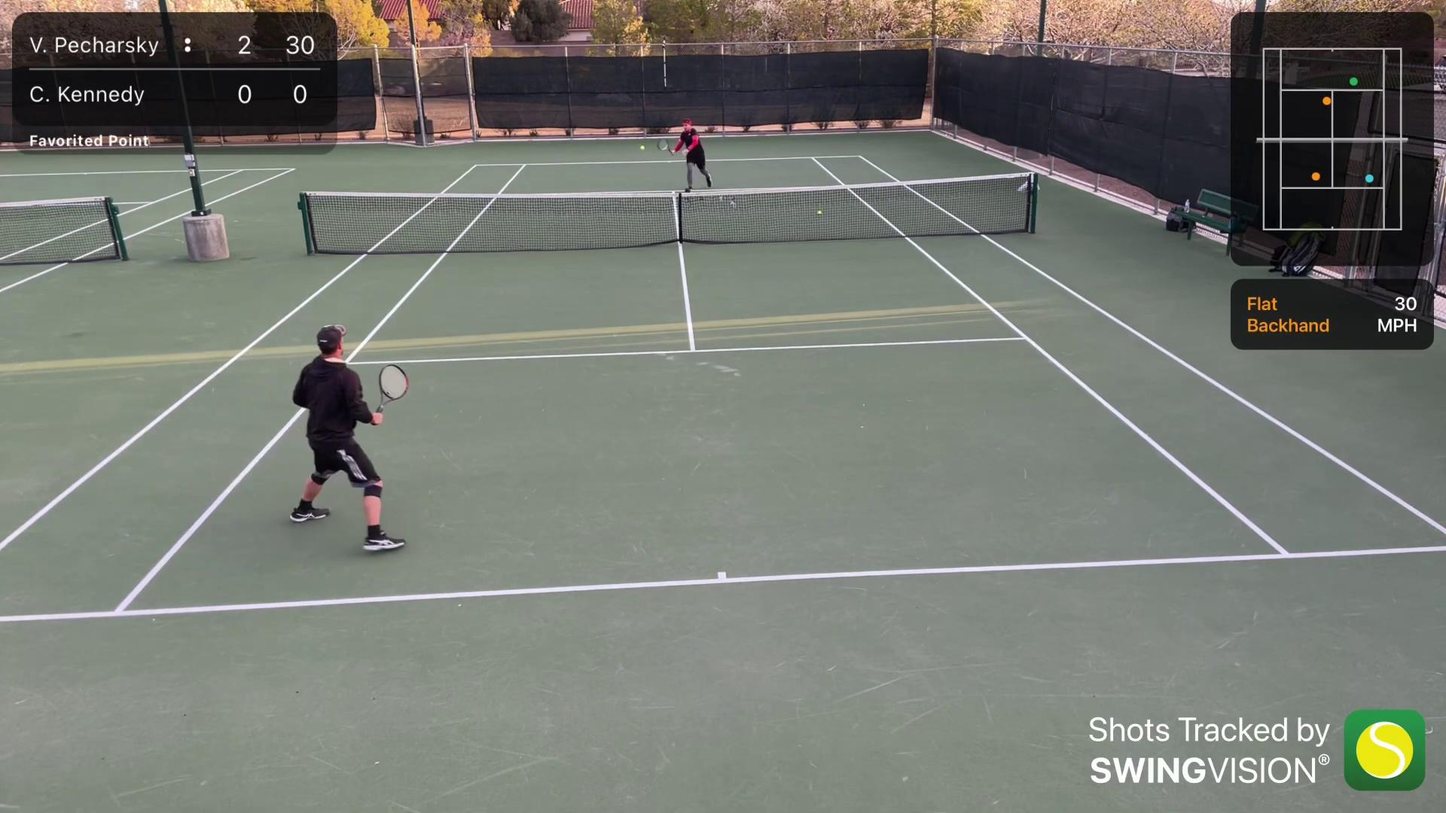ball: (816, 210, 824, 216), (640, 144, 645, 151)
